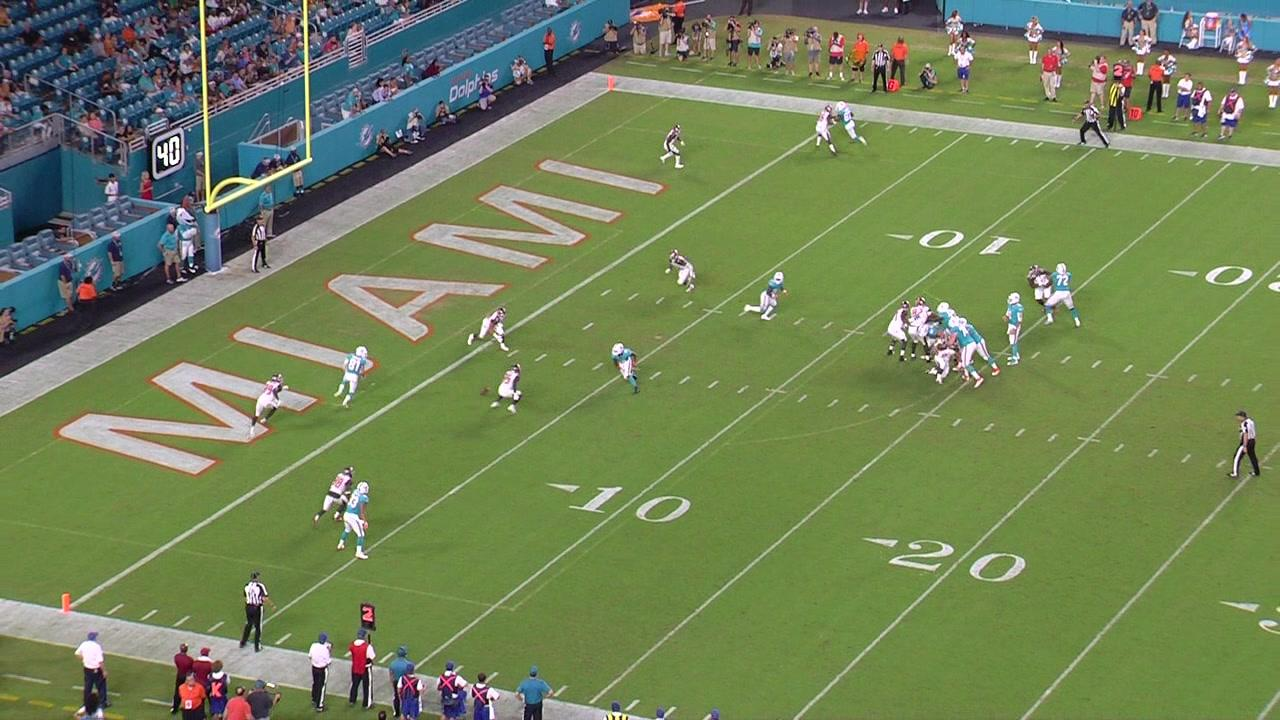five_hash: (1076, 435, 1102, 444), (764, 386, 787, 395), (917, 410, 942, 418), (1145, 372, 1169, 380), (843, 327, 866, 335), (702, 307, 723, 315)
hash: (649, 368, 663, 382), (562, 357, 578, 368), (1112, 441, 1125, 454), (1146, 446, 1159, 459), (706, 378, 720, 390), (827, 396, 841, 408), (856, 402, 870, 414), (533, 352, 548, 363), (591, 360, 606, 371), (795, 393, 810, 404), (600, 286, 613, 298), (1014, 426, 1027, 438), (1046, 431, 1059, 443), (1251, 382, 1264, 394), (1060, 353, 1073, 365), (1030, 349, 1043, 361), (626, 291, 640, 302), (678, 374, 692, 385), (736, 383, 750, 394), (983, 421, 995, 433), (1180, 452, 1192, 464), (1214, 458, 1227, 469), (1185, 372, 1198, 383), (822, 319, 835, 330), (793, 316, 806, 327), (654, 295, 666, 306), (951, 417, 963, 428), (1220, 376, 1231, 388), (1123, 362, 1135, 373), (1090, 358, 1102, 369), (507, 349, 520, 359), (682, 299, 694, 309), (889, 408, 900, 418)
number: (885, 536, 1030, 583), (567, 477, 695, 529), (917, 225, 1024, 260)
player: (59, 592, 73, 613), (607, 75, 614, 90)
